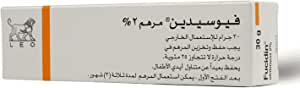Medicine: (2, 1, 284, 86)
